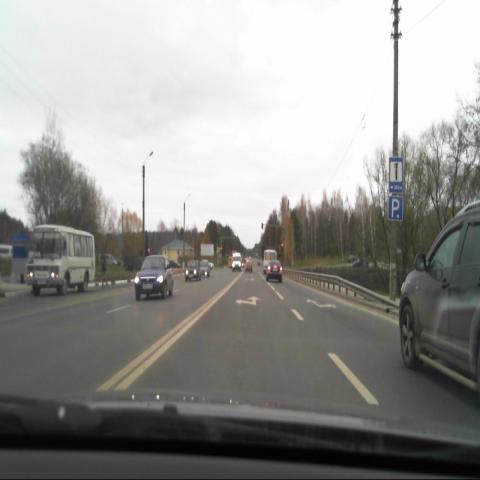7_4: (388, 156, 404, 192)
